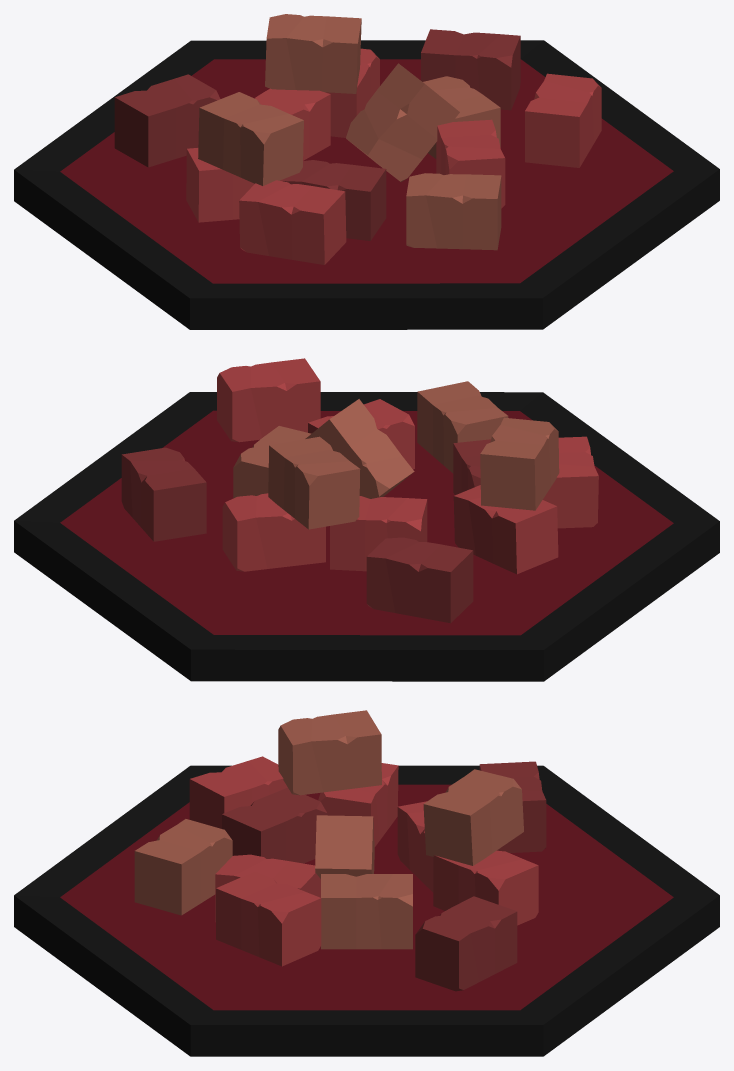
File: Tile_Brick.fbx
3 views of the same model, one above another, from view 1: azimuth 30°, elevation 25°; view 2: azimuth 150°, elevation 25°; view 3: azimuth 270°, elevation 25° (orthographic).
Visible parts, largest first — view 1: Brick Tile; view 2: Brick Tile; view 3: Brick Tile.
Part boxes in pixels (x1,y1,x2,y2): Brick Tile: [14, 14, 719, 329]; Brick Tile: [14, 358, 719, 681]; Brick Tile: [14, 710, 719, 1056].
Size of the model in its own units: 200 by 49 by 230.
